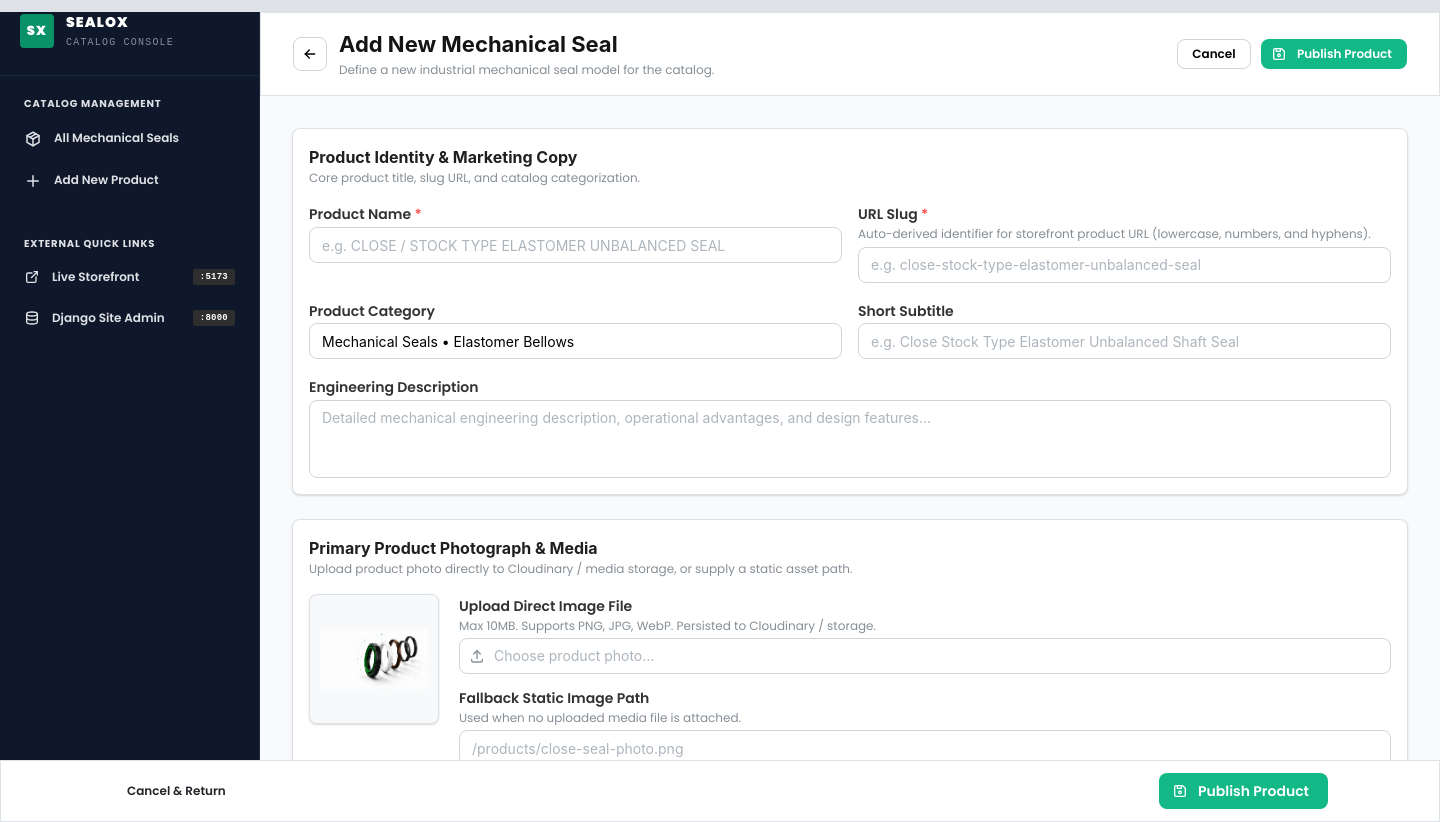
ProductEditor Feature Page › shows required field errors when attempting to submit with blank name
Click the button "Publish Product" in the row of "Add New Mechanical Seal" at (1334, 54), box x1=1260 y1=39 x2=1407 y2=69
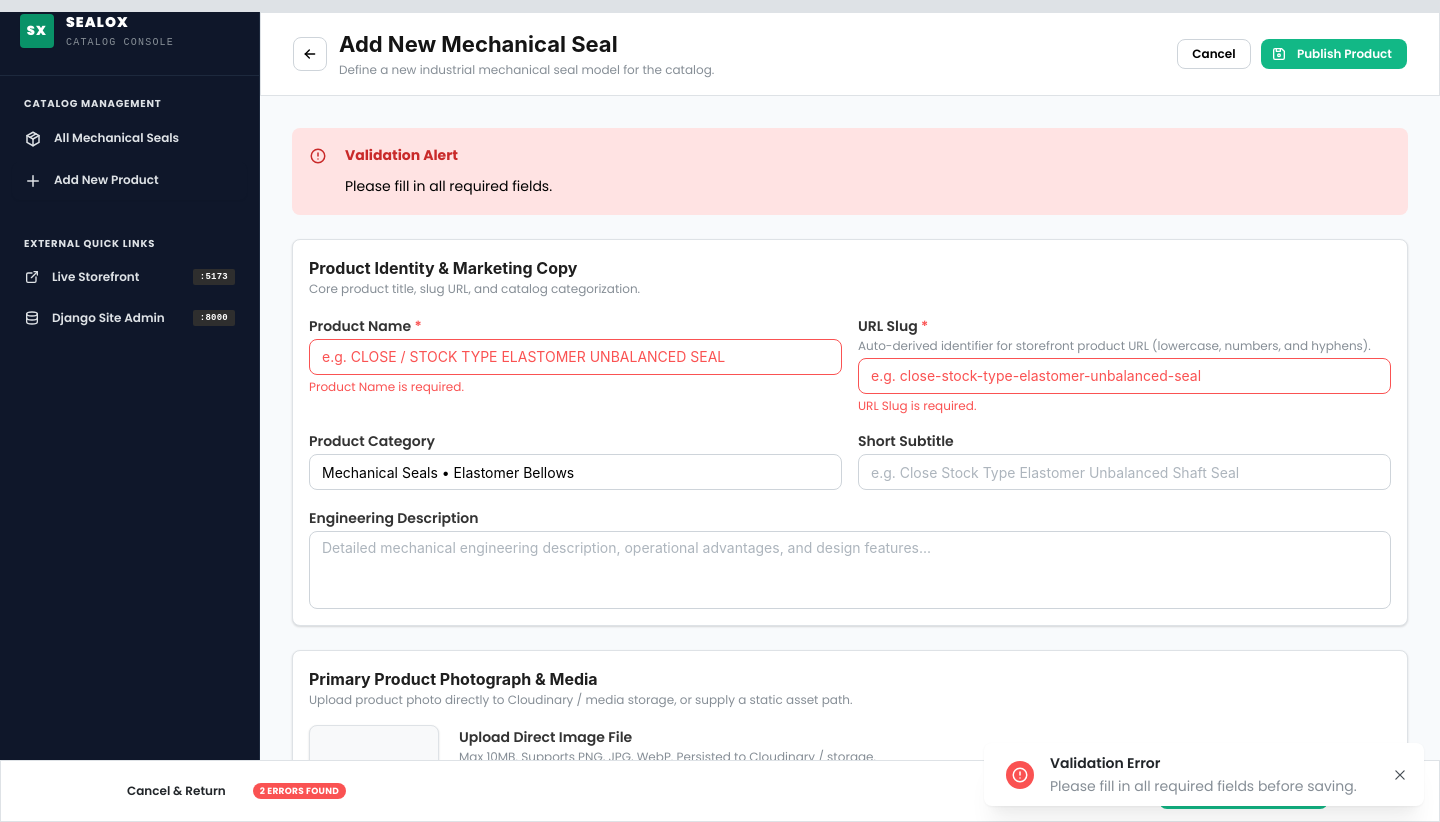
Check: the text "Product Name is required." is shown, box x1=309 y1=378 x2=464 y2=395
Check: the text "URL Slug is required." is shown, box x1=858 y1=397 x2=976 y2=414
Check: the text "Please fill in all required fields." is shown, box x1=345 y1=176 x2=552 y2=196
